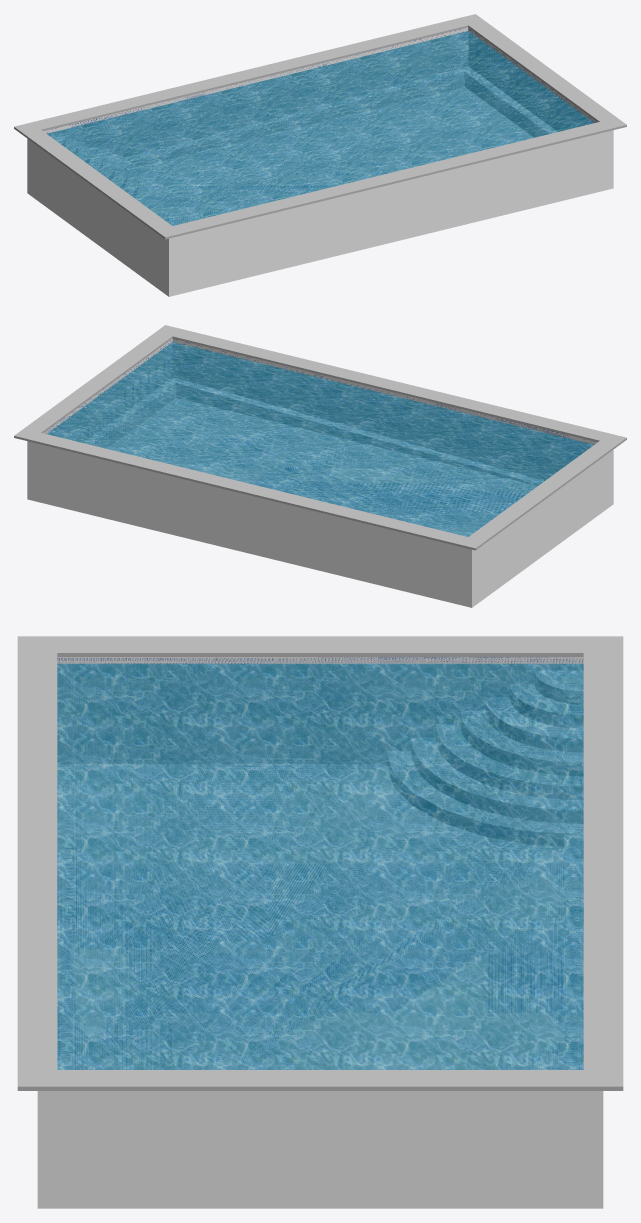
The model's file is Pool1.dae.
3 renders of one model, top to bottom at view 1: azimuth 30°, elevation 25°; view 2: azimuth 150°, elevation 25°; view 3: azimuth 270°, elevation 25°, orthographic. The views are drawn at different scales.
Parts seen in each view (by area): view 1: pool (×5); view 2: pool (×5); view 3: pool (×5).
Boxes of the visible parts, box(x1,y1,x2,y2) form: pool (×5): box(14, 14, 626, 296); pool (×5): box(14, 325, 626, 607); pool (×5): box(17, 636, 623, 1208).
Bounding box in the file's own units: 638 × 362 × 86.08.
